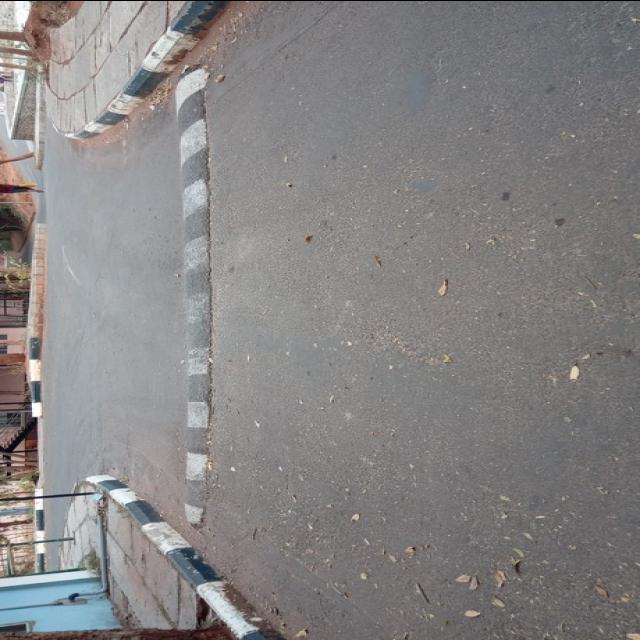speedbreaker: (163, 78, 221, 530)
